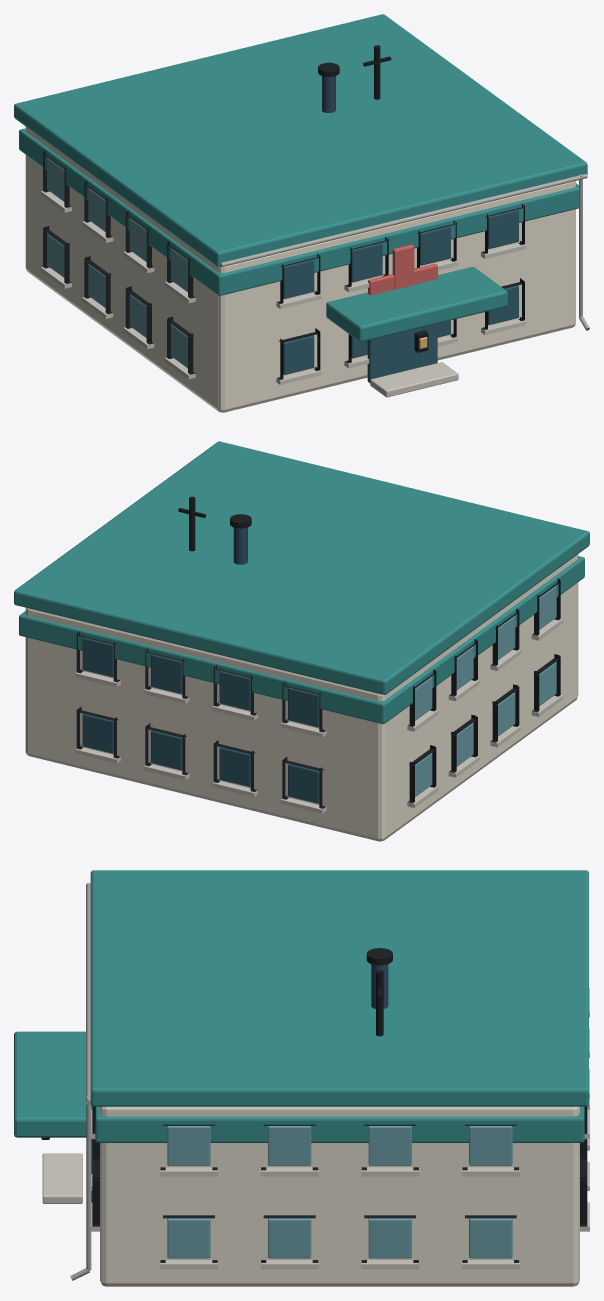
File: CIV_HEALTH_2x2_002.glb
3 renders of one model, top to bottom at view 1: azimuth 30°, elevation 25°; view 2: azimuth 150°, elevation 25°; view 3: azimuth 270°, elevation 25°, orthographic. The views are drawn at different scales.
Parts seen in each view (by area): view 1: CIV_HEALTH_2x2_002_Visual; view 2: CIV_HEALTH_2x2_002_Visual; view 3: CIV_HEALTH_2x2_002_Visual.
Boxes of the visible parts, box(x1,y1,x2,y2) form: CIV_HEALTH_2x2_002_Visual: box(14, 14, 589, 412); CIV_HEALTH_2x2_002_Visual: box(14, 441, 589, 841); CIV_HEALTH_2x2_002_Visual: box(14, 870, 589, 1286).
Size of what is drawn, in the model's own units: 3.38 by 1.9 by 3.72.
